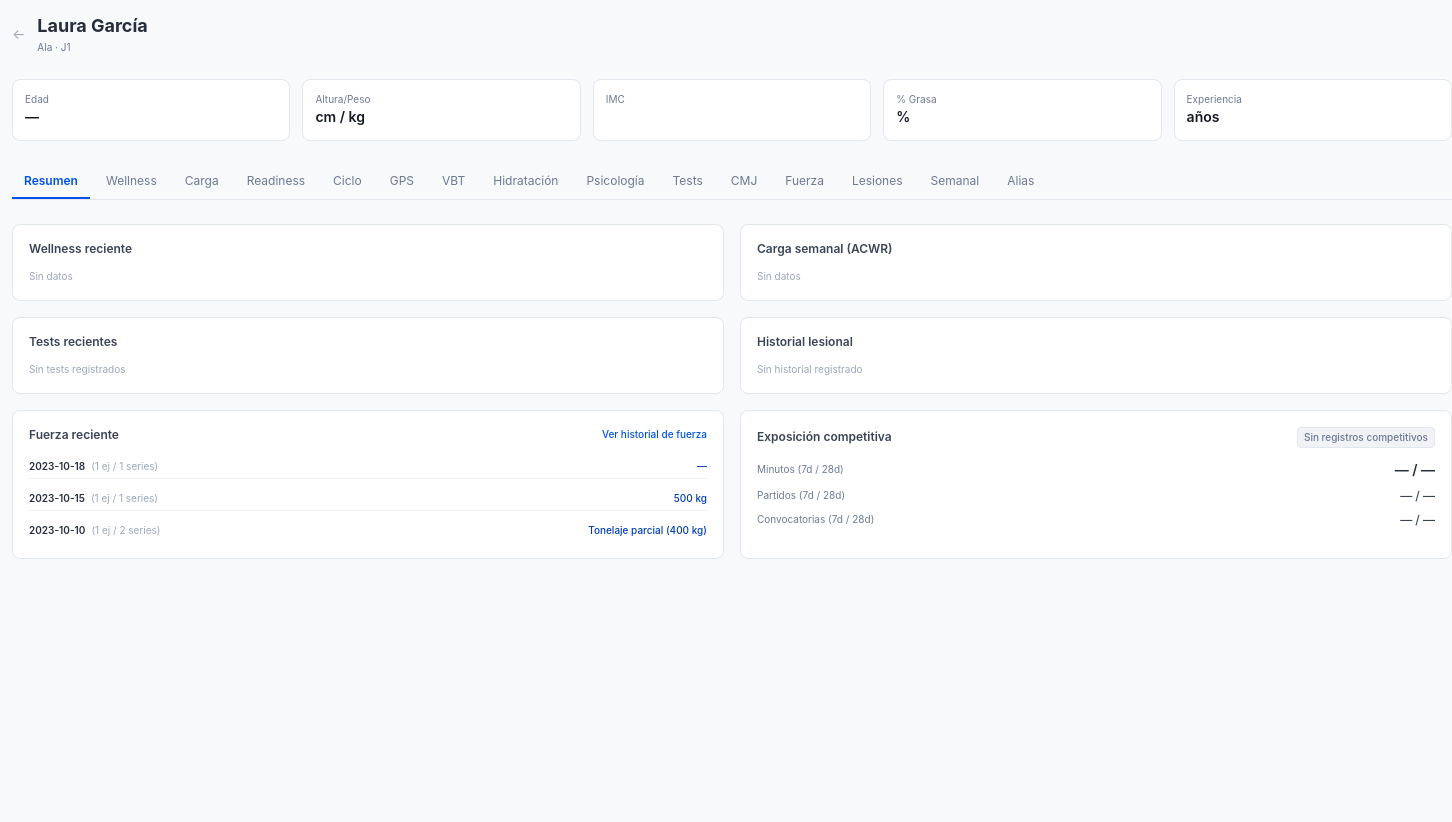
Test: PlayerProfilePage (Pestaña e Historial de Fuerza) › 1. Pestaña Fuerza aparece en perfil y muestra sesiones de la jugadora ordenadas por fecha descendente
The image size is (1452, 822).
# Cambiar a la pestaña Fuerza
Click the button "Fuerza" at {"x": 805, "y": 182}, box [773,164,836,198]
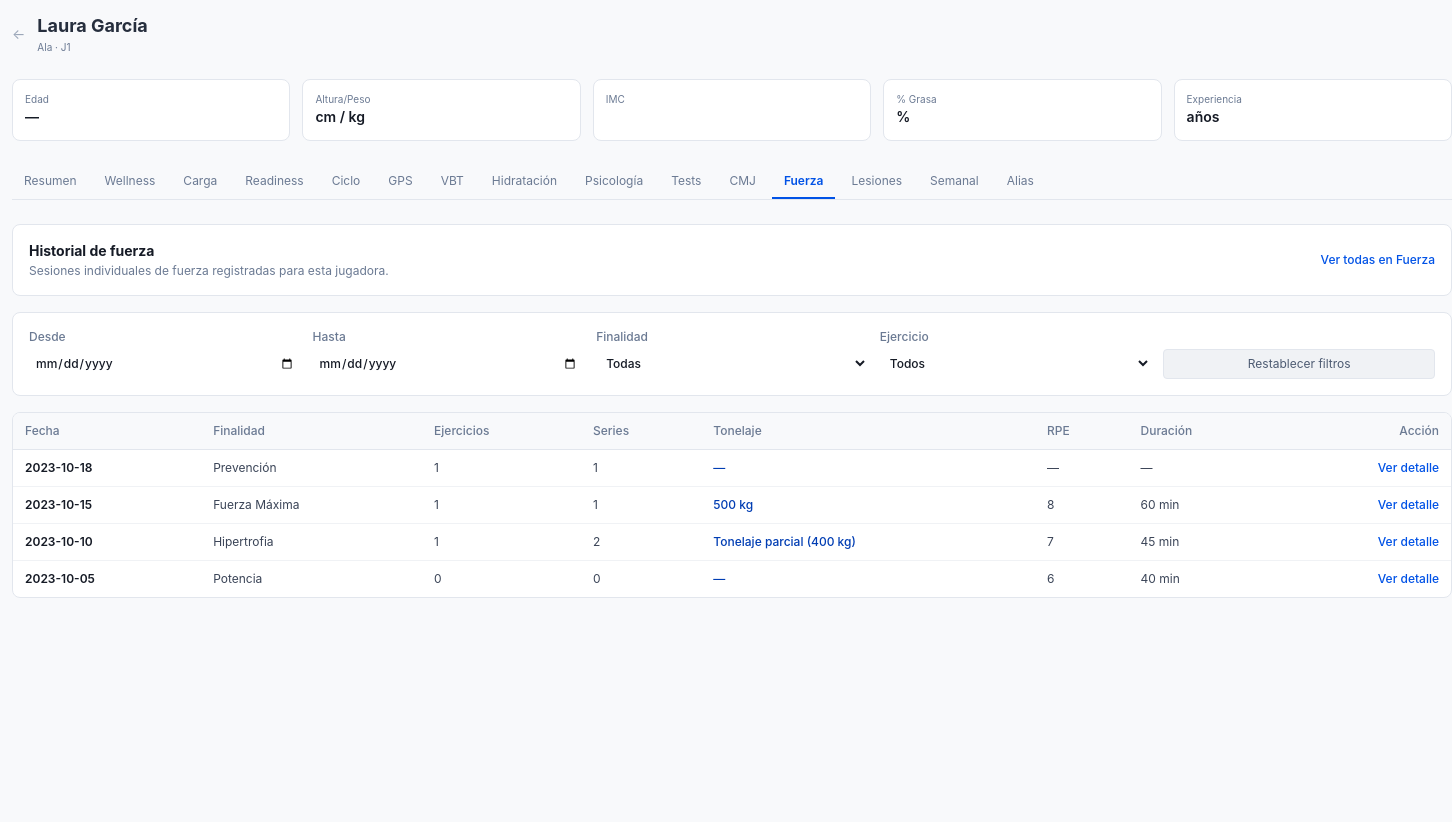
Check: the text "Sesiones individuales de fuerza registradas para esta jugadora." is shown, box [29,262,389,278]
Check: the row "2023-10-18 Prevención 1 1 — — — Ver detalle" is shown, box [13,449,1451,486]
Check: the row "2023-10-15 Fuerza Máxima 1 1 500 kg 8 60 min Ver detalle" is shown, box [13,486,1451,523]
